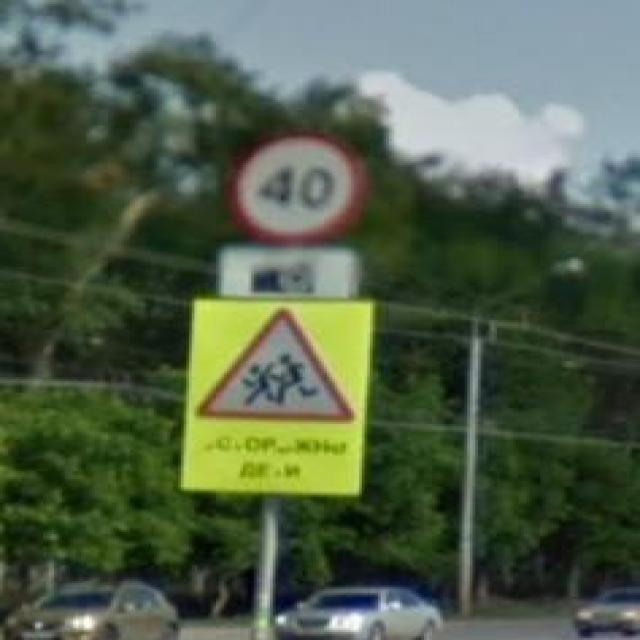traffic_sign: (192, 304, 356, 424), (226, 130, 372, 250)
